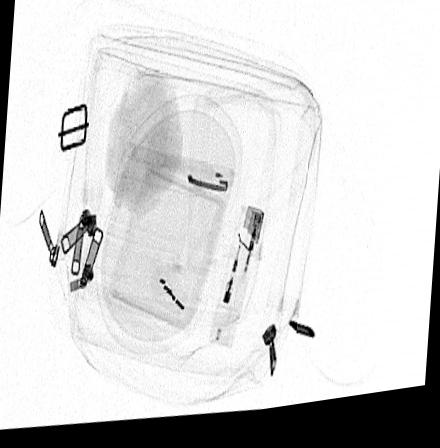Lighter: (208, 209, 266, 353)
